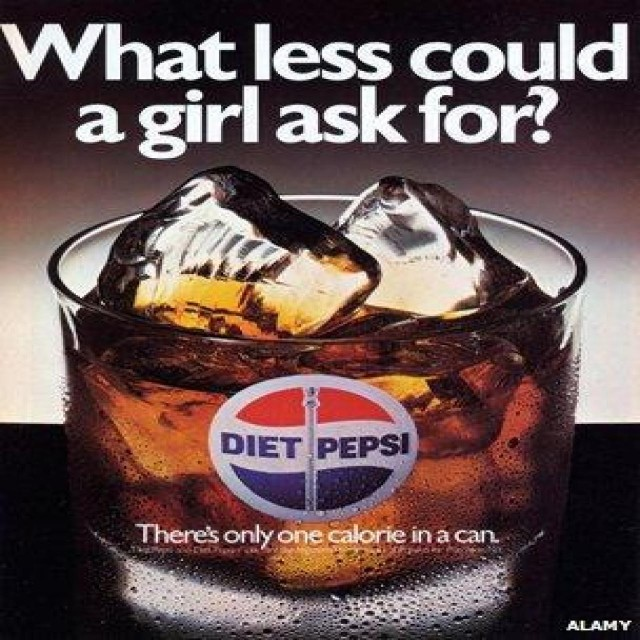pepsi: (206, 373, 410, 521)
